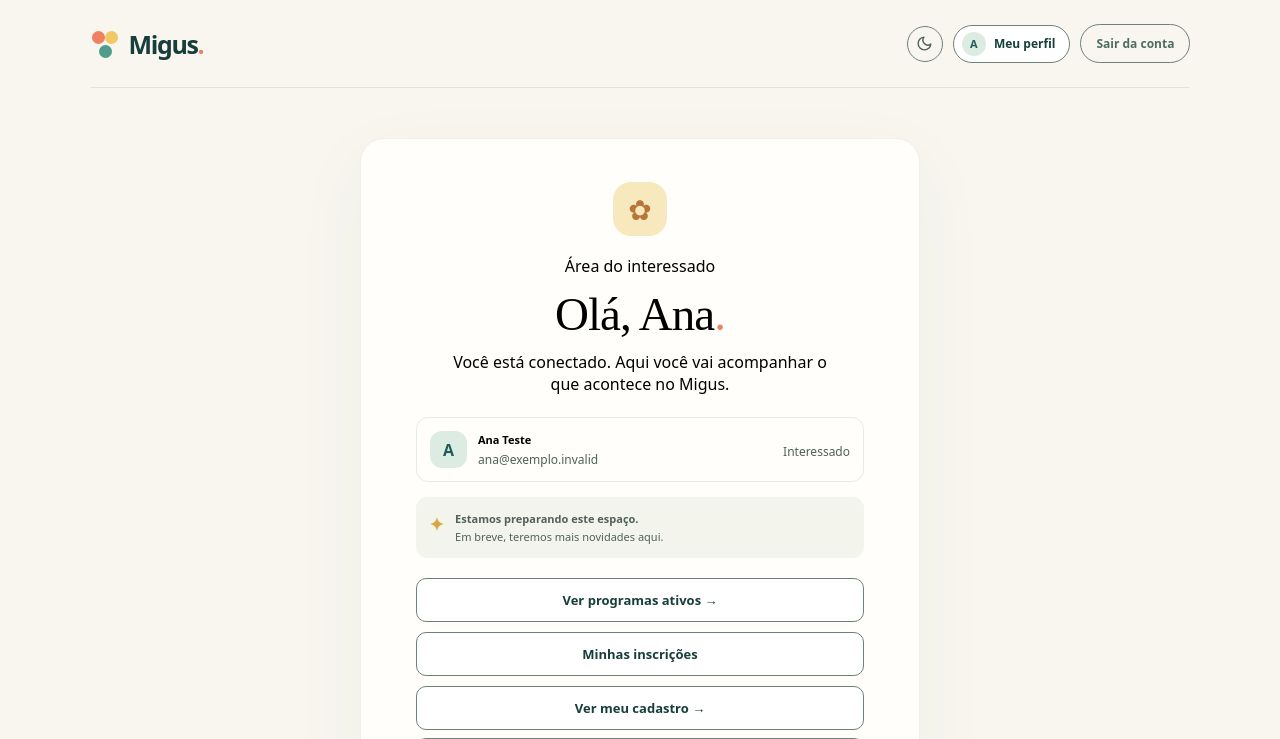
Test: mantém uma única ação de sair da conta
The width and height of the screenshot is (1280, 739).
What coordinates should you click on to do the following:
click the button "Sair da conta"
I would click on:
 (1135, 44)
Its box is [1080,24,1190,63].
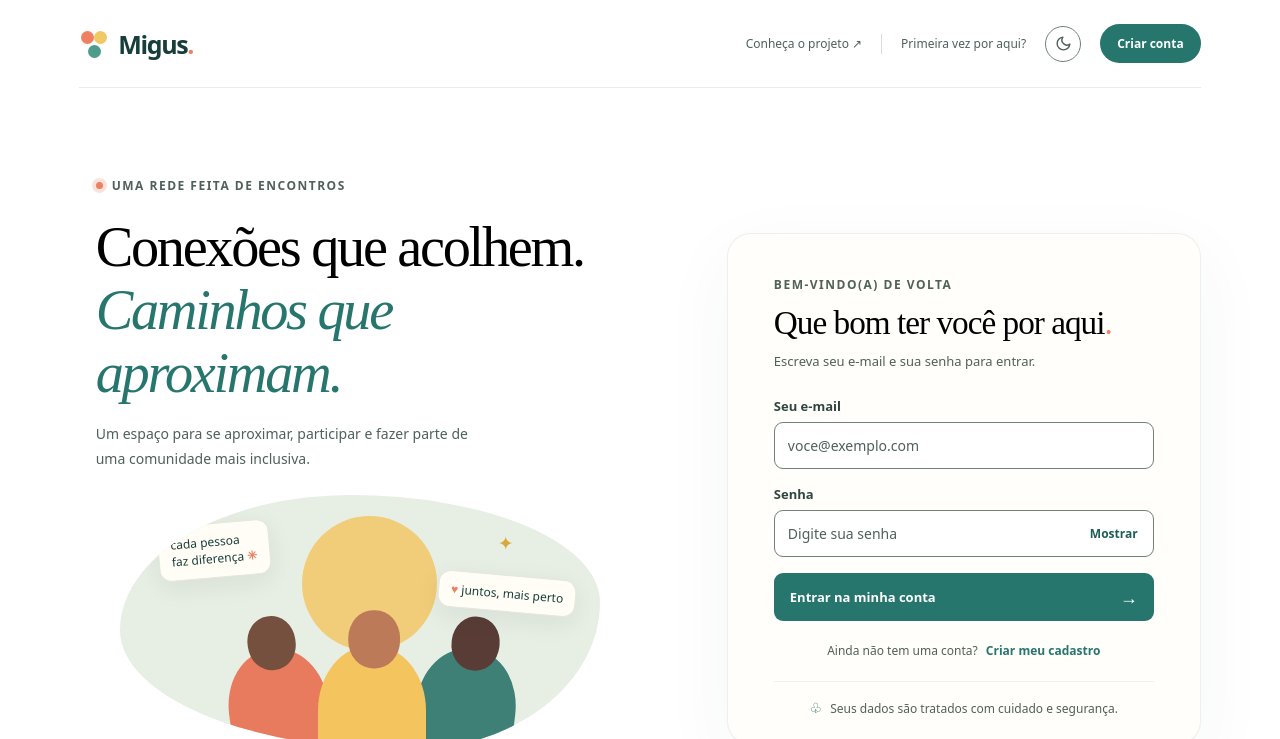
Check: the button "Entrar na minha conta →" is shown, box [774,573,1154,621]
